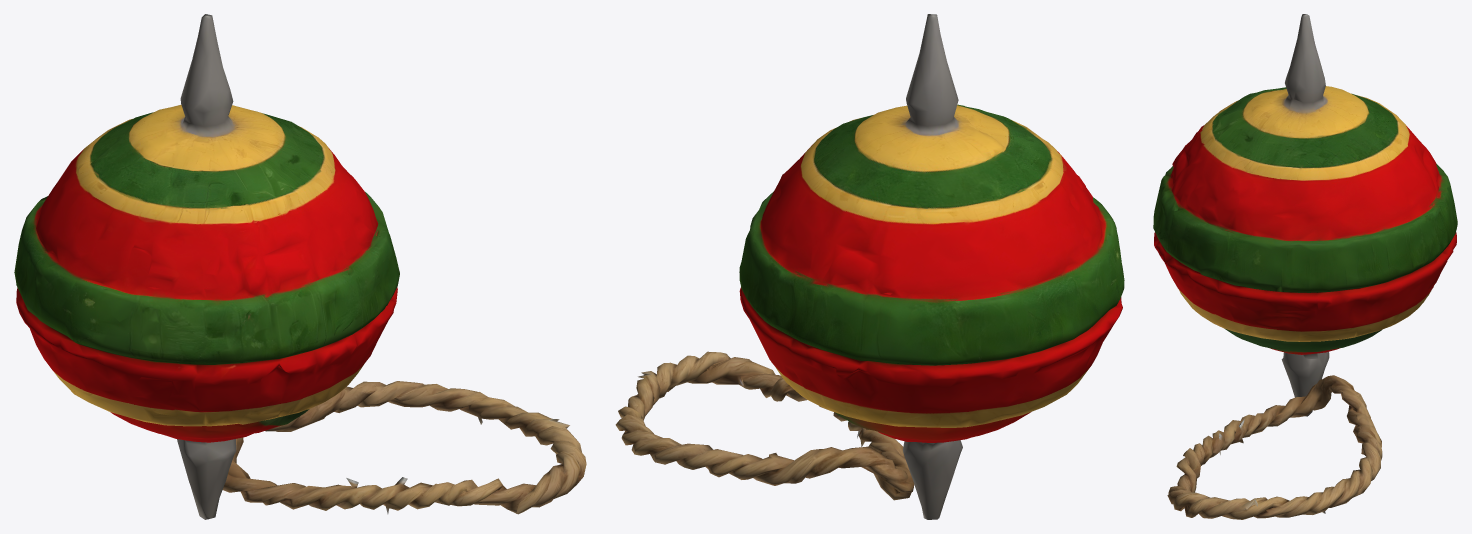
The model's file is lattu.glb.
3 views of the same model, side by side, from view 1: azimuth 30°, elevation 25°; view 2: azimuth 150°, elevation 25°; view 3: azimuth 270°, elevation 25° (orthographic). The views are drawn at different scales.
Parts seen in each view (by area): view 1: tripo_node_f5db2068-7b0c-4c6e-ba60-f0ee5bd555e2; view 2: tripo_node_f5db2068-7b0c-4c6e-ba60-f0ee5bd555e2; view 3: tripo_node_f5db2068-7b0c-4c6e-ba60-f0ee5bd555e2.
Boxes of the visible parts, left/top/right/bottom form: tripo_node_f5db2068-7b0c-4c6e-ba60-f0ee5bd555e2: left=14, top=14, right=586, bottom=519; tripo_node_f5db2068-7b0c-4c6e-ba60-f0ee5bd555e2: left=615, top=14, right=1124, bottom=519; tripo_node_f5db2068-7b0c-4c6e-ba60-f0ee5bd555e2: left=1153, top=14, right=1457, bottom=519.
Bounding box in the file's own units: 1 × 0.9712 × 0.6718.
1 material, 1 textured.
